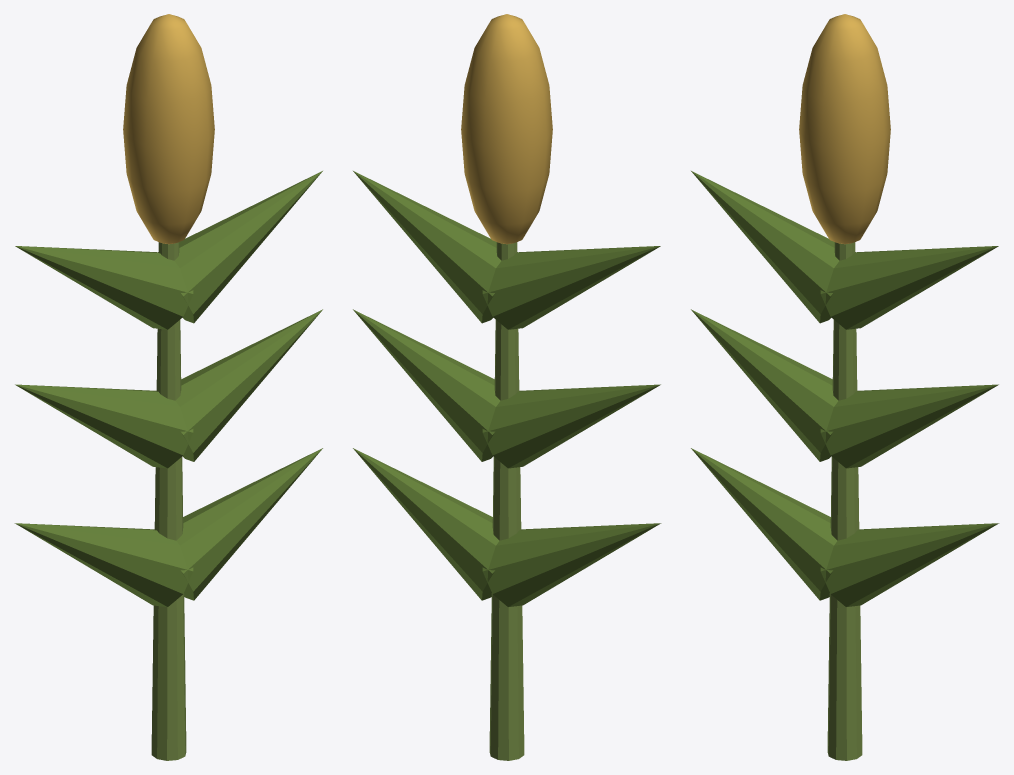
The model's file is corn.glb.
3 views of the same model, side by side, from view 1: azimuth 30°, elevation 25°; view 2: azimuth 150°, elevation 25°; view 3: azimuth 330°, elevation 25° (orthographic).
Parts seen in each view (by area): view 1: corn.001; view 2: corn.001; view 3: corn.001.
Part boxes in pixels (left/top/right/bottom): corn.001: left=14, top=14, right=322, bottom=760; corn.001: left=353, top=14, right=661, bottom=760; corn.001: left=691, top=14, right=999, bottom=760.
Size of the model in its own units: 0.7 by 1.6 by 0.18.
